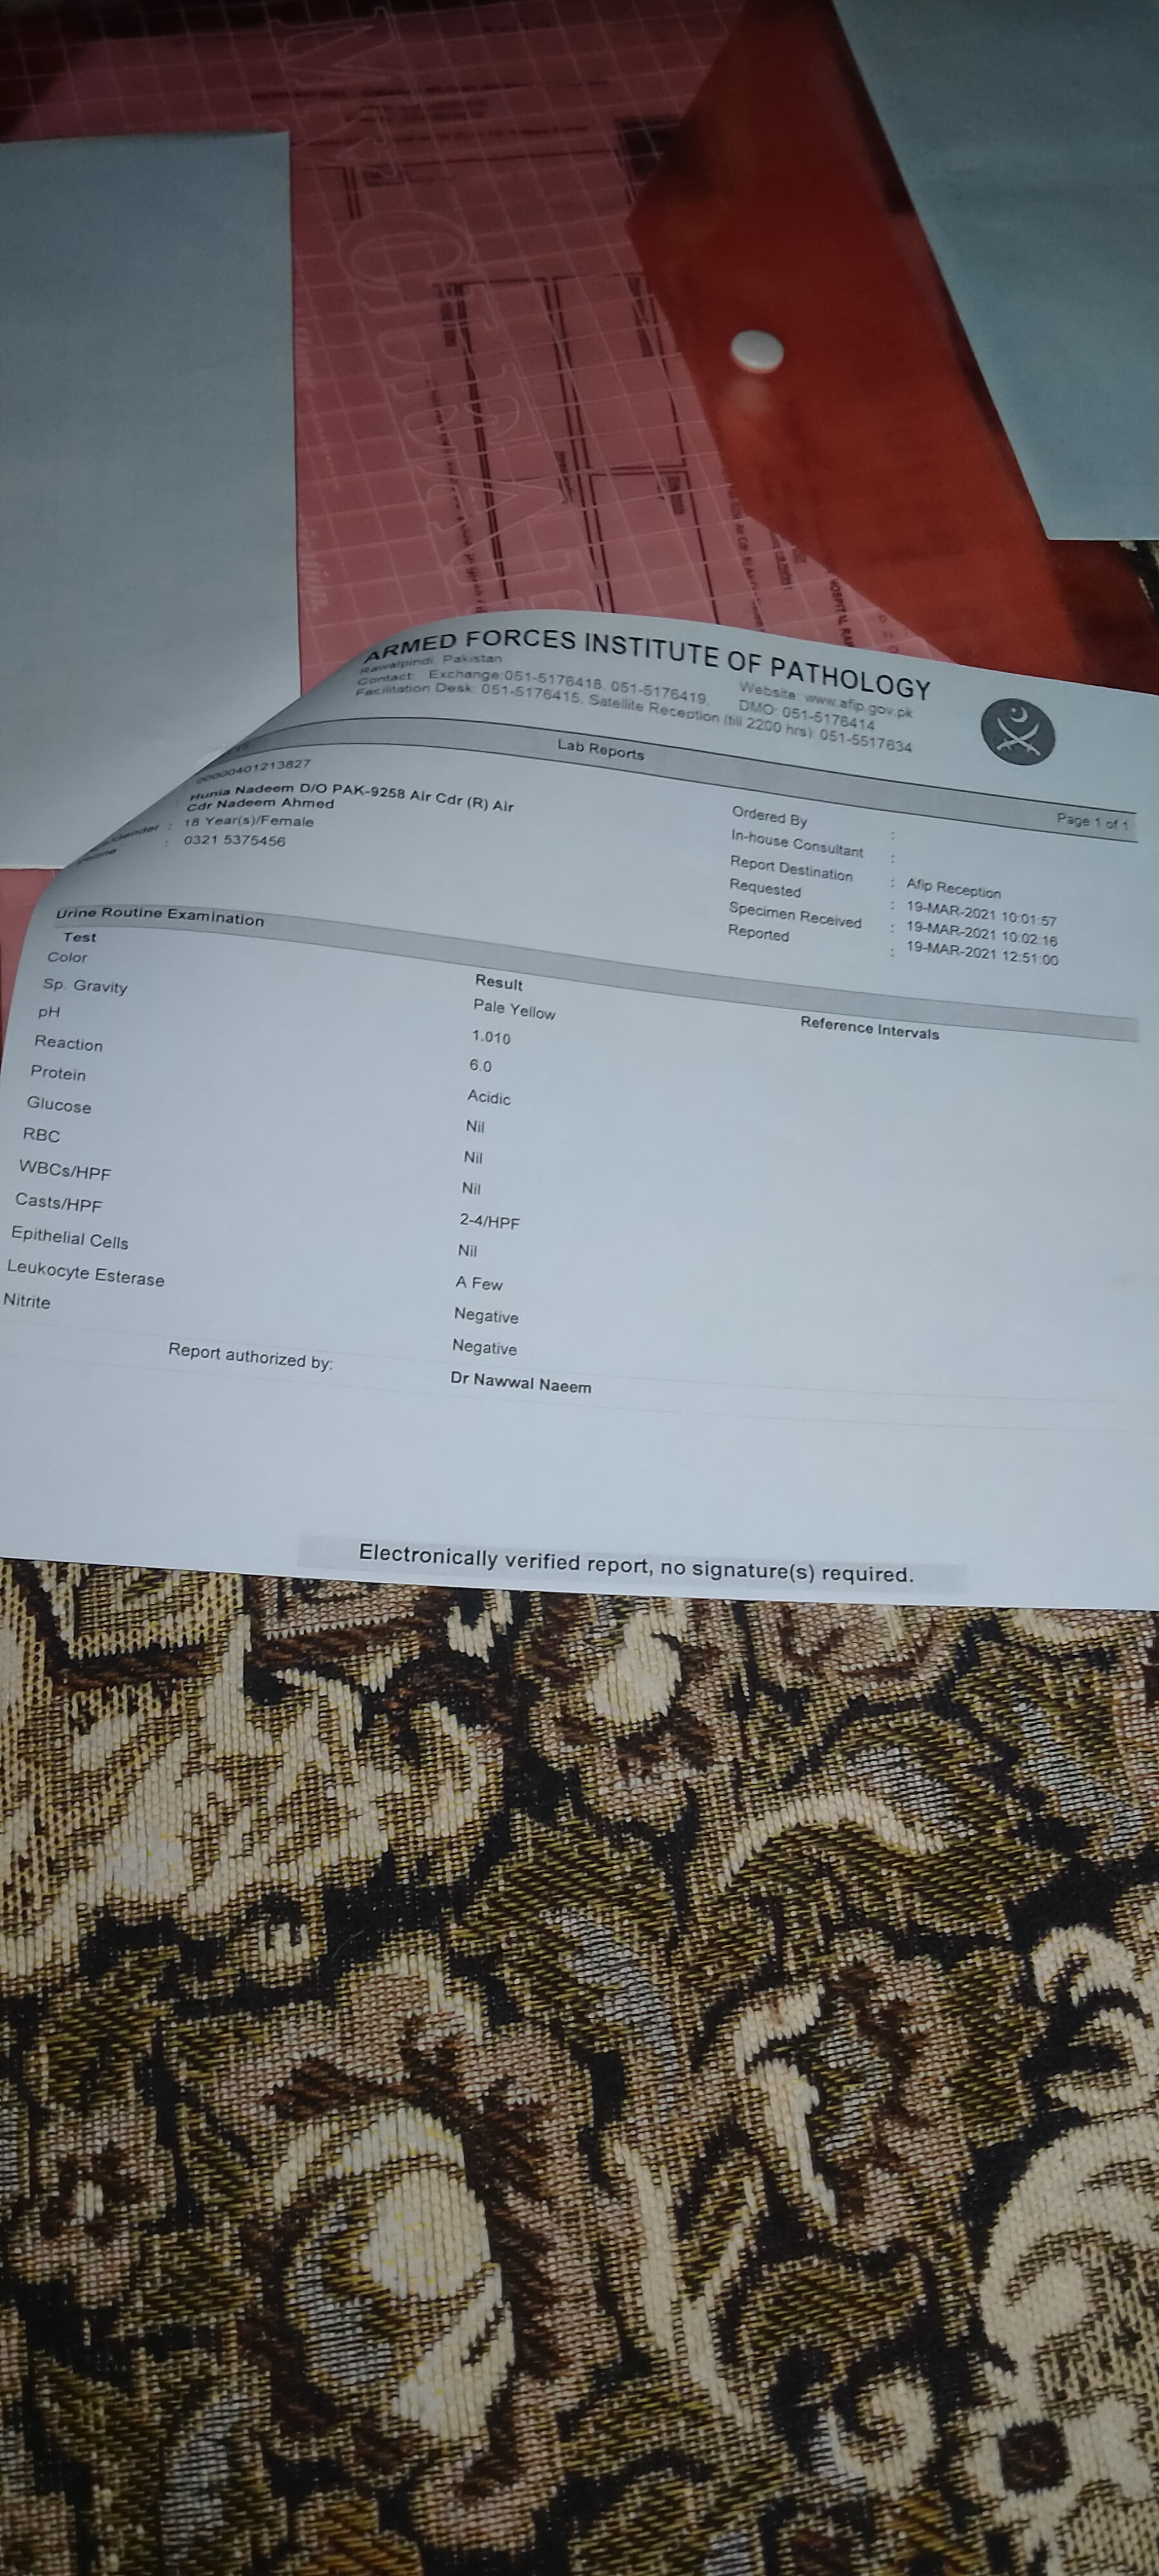report: (0, 889, 1028, 1434)
